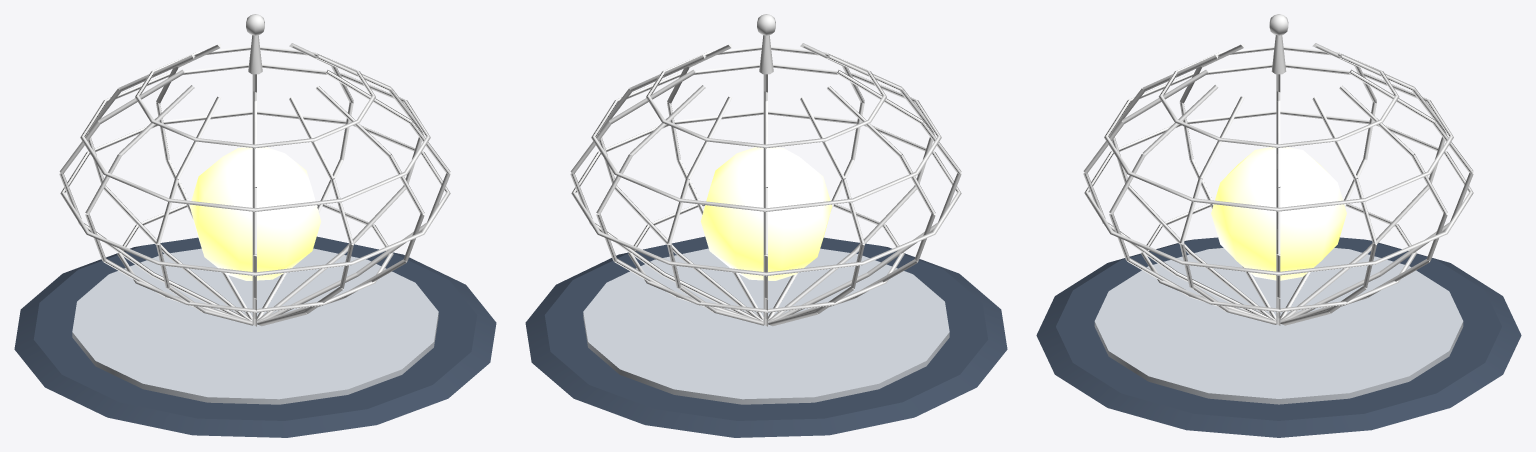
Rendered from vinhomes_dandelion_canopy.glb.
The picture shows the model from 3 angles, left to right: view 1: azimuth 30°, elevation 25°; view 2: azimuth 150°, elevation 25°; view 3: azimuth 270°, elevation 25°; orthographic projection.
Parts seen in each view (by area): view 1: Plinth, PlinthCurb, LatticeRibs, GlowCore; view 2: Plinth, PlinthCurb, LatticeRibs, GlowCore; view 3: Plinth, PlinthCurb, LatticeRibs, GlowCore.
Boxes of the visible parts, <box> form: Plinth: <box>72,248,438,404</box>; PlinthCurb: <box>14,236,496,437</box>; LatticeRibs: <box>59,14,450,326</box>; GlowCore: <box>189,147,321,280</box>; Plinth: <box>583,248,949,404</box>; PlinthCurb: <box>525,236,1007,437</box>; LatticeRibs: <box>570,14,961,326</box>; GlowCore: <box>700,147,832,280</box>; Plinth: <box>1094,248,1463,404</box>; PlinthCurb: <box>1036,237,1521,437</box>; LatticeRibs: <box>1083,14,1473,325</box>; GlowCore: <box>1211,147,1346,280</box>.
Bounding box in the file's own units: 8 × 5.83 × 8.
